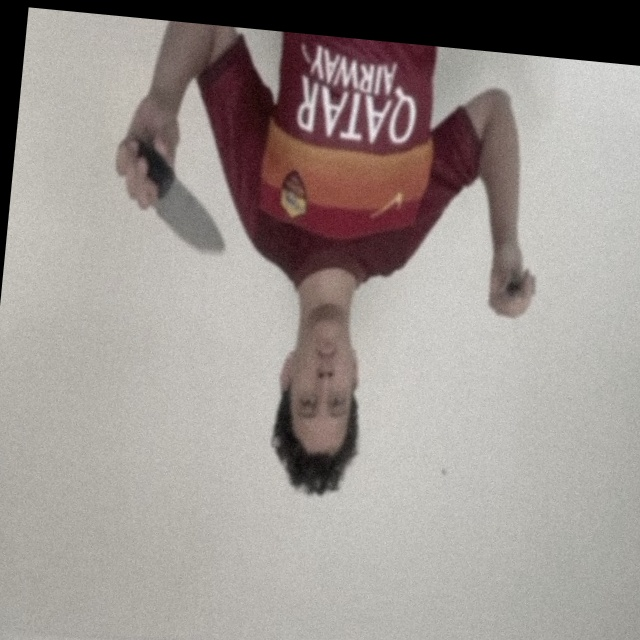Sharp-Object: (149, 186, 229, 255)
